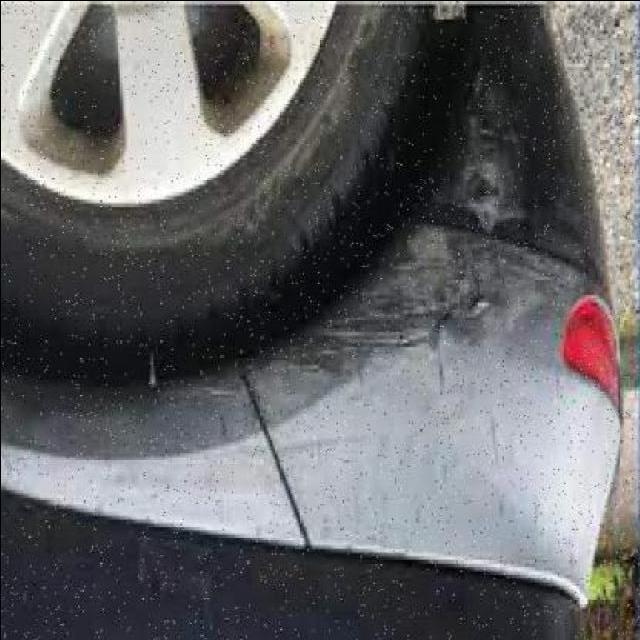rear-bumper-dent: (289, 11, 631, 603)
